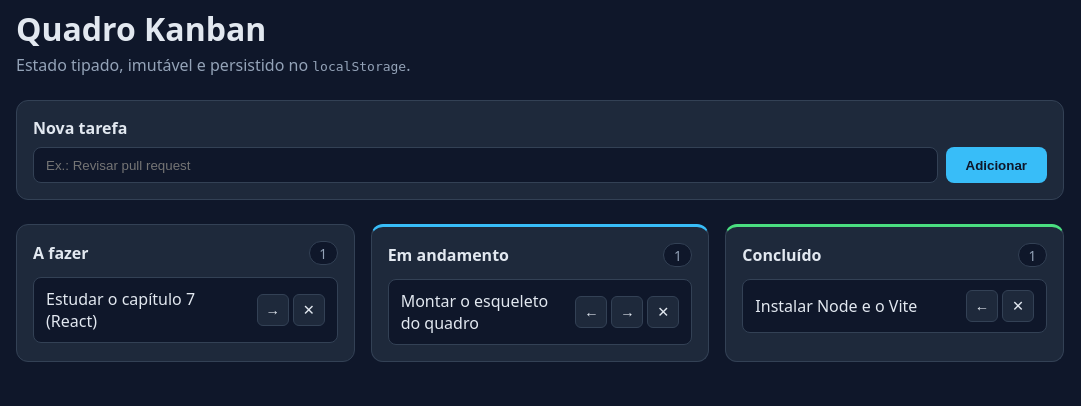
it: Quadro Kanban — criar tarefa › valida título curto e exibe erro com role=alert
The width and height of the screenshot is (1081, 406).
In the field labelled "Nova tarefa": [485, 165] box left=33, top=147, right=938, bottom=183, type "ab"
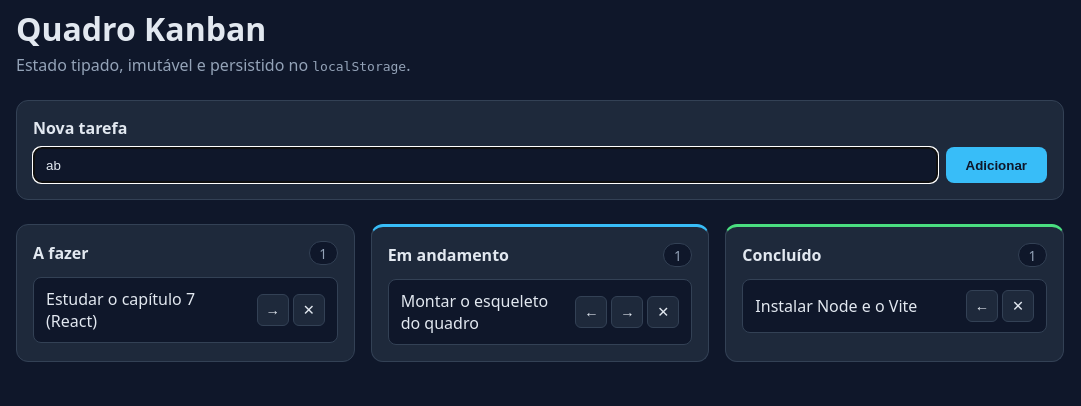
Click the button "Adicionar": [996, 165] box left=946, top=147, right=1047, bottom=183
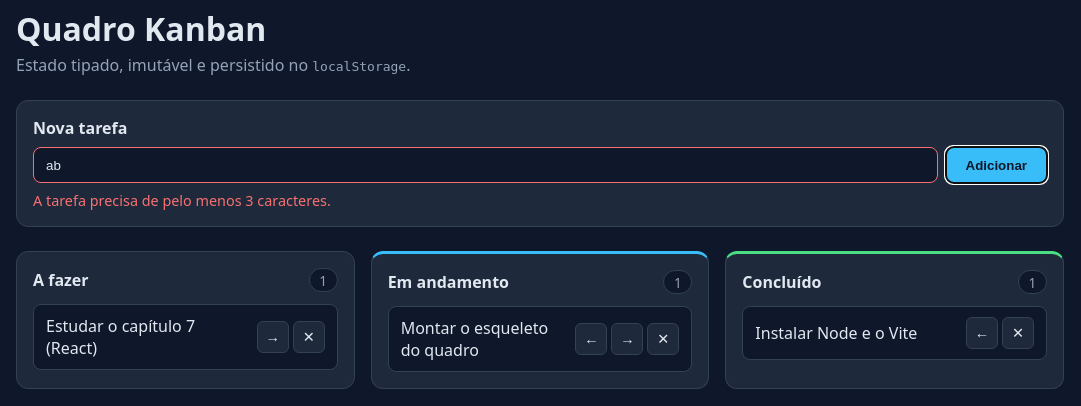
Expected: the text "1" in the row of "A fazer" is shown, left=319, top=271, right=327, bottom=290
Expected: the message shows "pelo menos 3 caracteres", left=33, top=191, right=331, bottom=210
